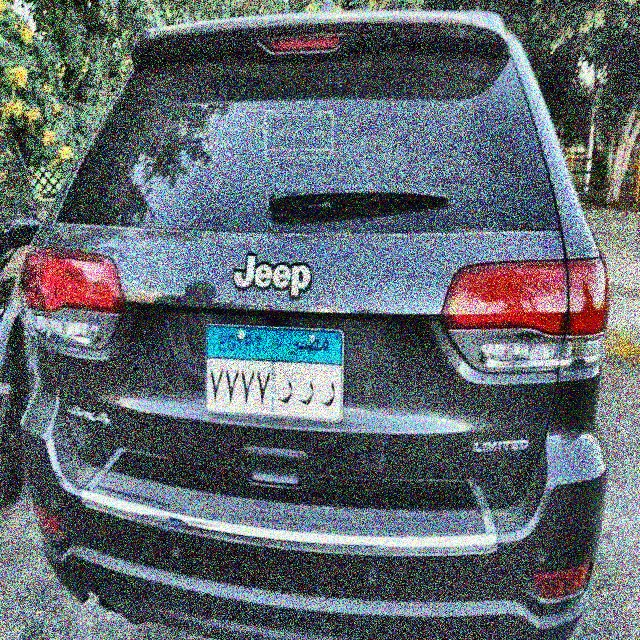License Plate: (200, 318, 348, 425)
